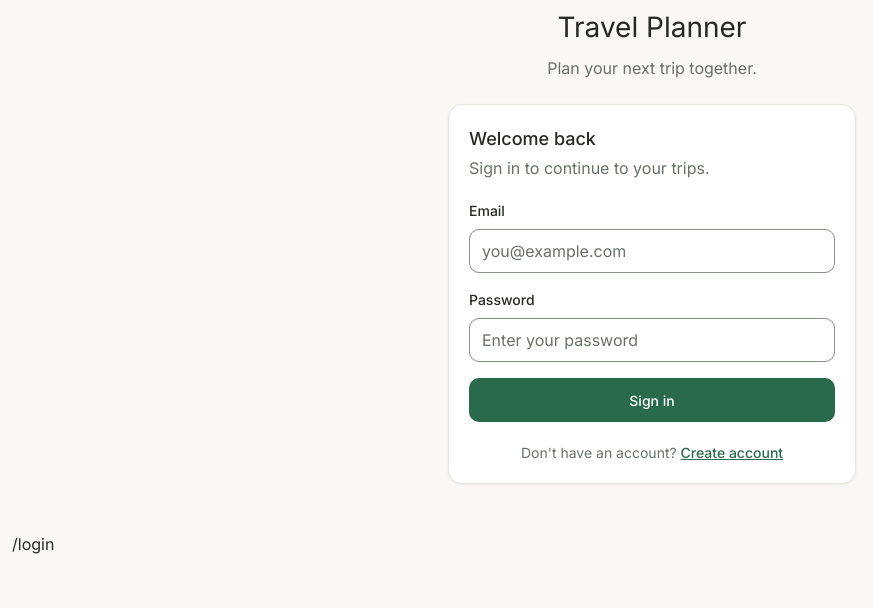
Scenario: shows an error when login credentials are invalid
Expected: the heading "Welcome back" is shown, [469,128,596,149]
Type "test-user@example.com" into the field labelled "Email".
click(652, 251); type("test-user@example.com")  # box [469,229,835,273]
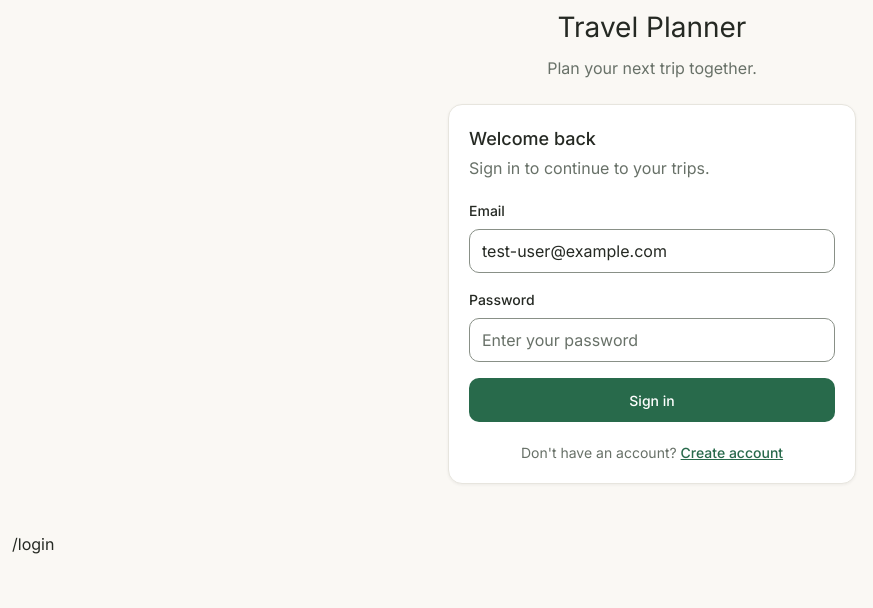
Type "wrong-password" into the password field labelled "Password".
click(652, 340); type("wrong-password")  # box [469,318,835,362]
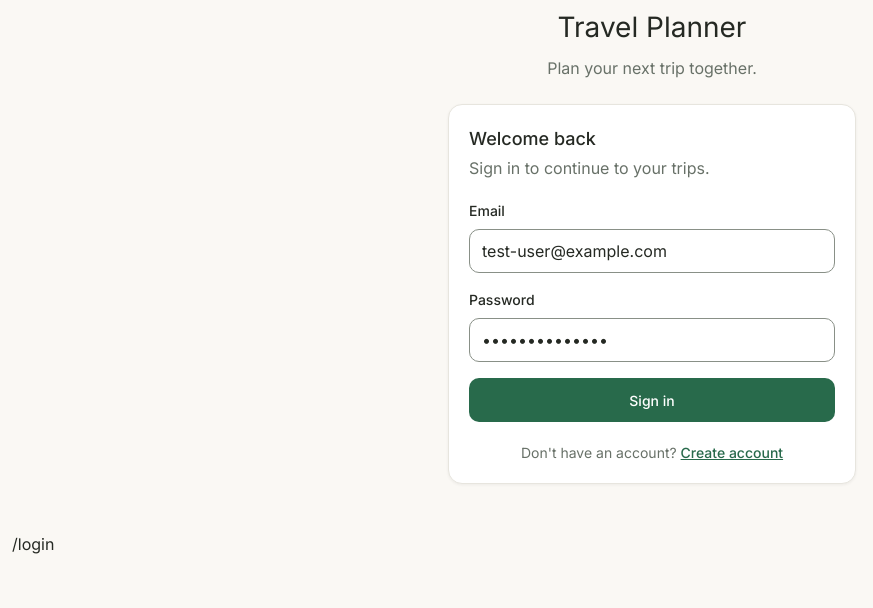
Click the button "Sign in".
click(652, 400)  # box [469,378,835,422]
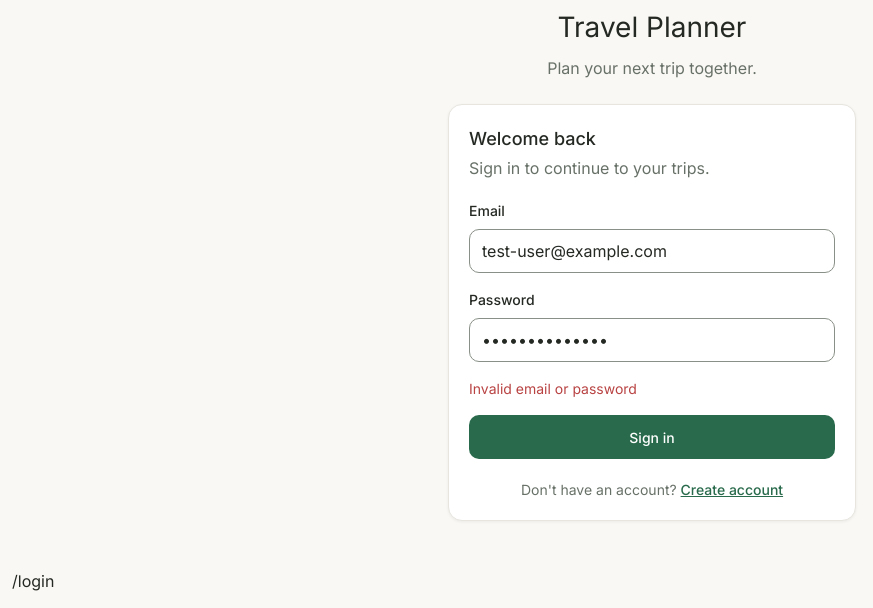
Expected: the text named "Current path" reads "/login", [12,571,54,591]
Expected: the message reads "Invalid email or password", [469,380,637,397]
